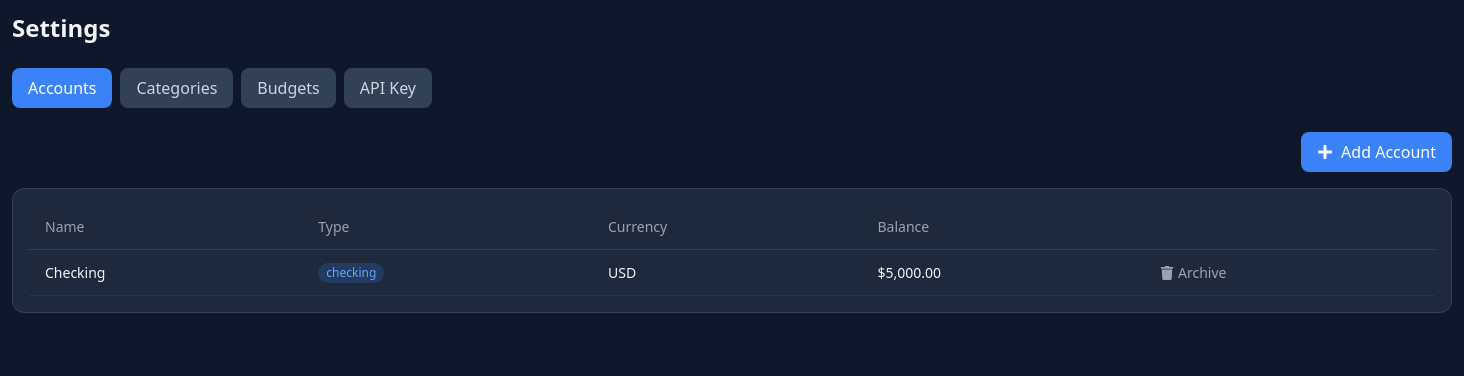
Test case: Settings › switches to categories tab
Step 1. Click the button "categories" → coordinates (177, 88), box [120, 68, 233, 108]
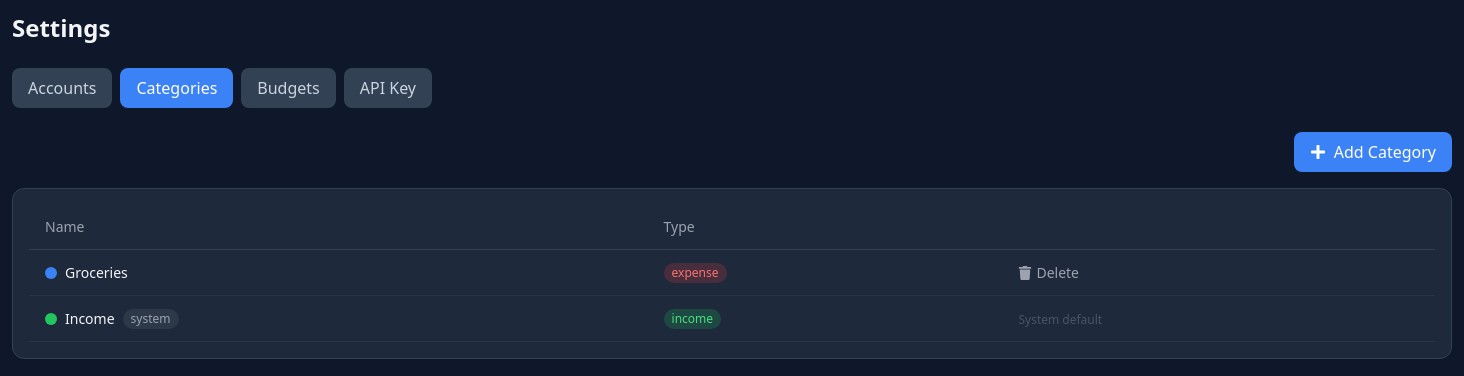
expect the button "Add Category" is shown: met, box [1294, 132, 1452, 172]
